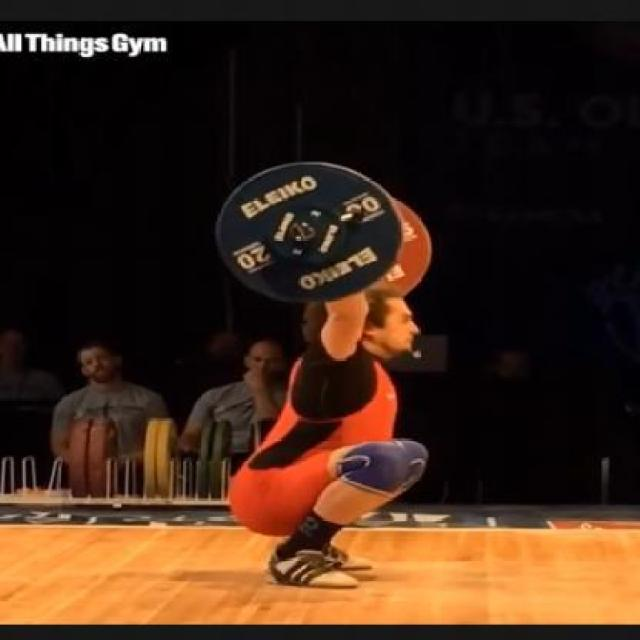barbell: (214, 158, 406, 308)
